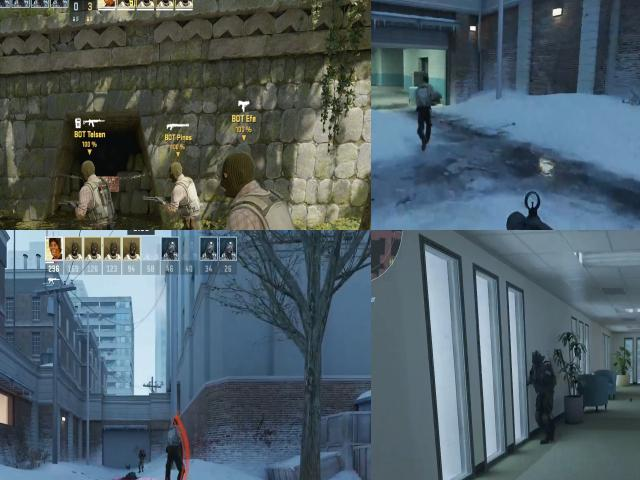Bomb: (96, 182, 111, 207)
CT: (527, 347, 558, 406), (137, 450, 144, 468)
CT-Head: (528, 350, 546, 373)
Dead: (117, 472, 138, 480)
T: (202, 143, 317, 230), (77, 156, 116, 230), (163, 159, 203, 230), (163, 420, 183, 463), (416, 74, 432, 117)
T-Head: (217, 149, 260, 206), (75, 157, 101, 188), (164, 159, 188, 190), (170, 418, 180, 432), (421, 77, 430, 91)
